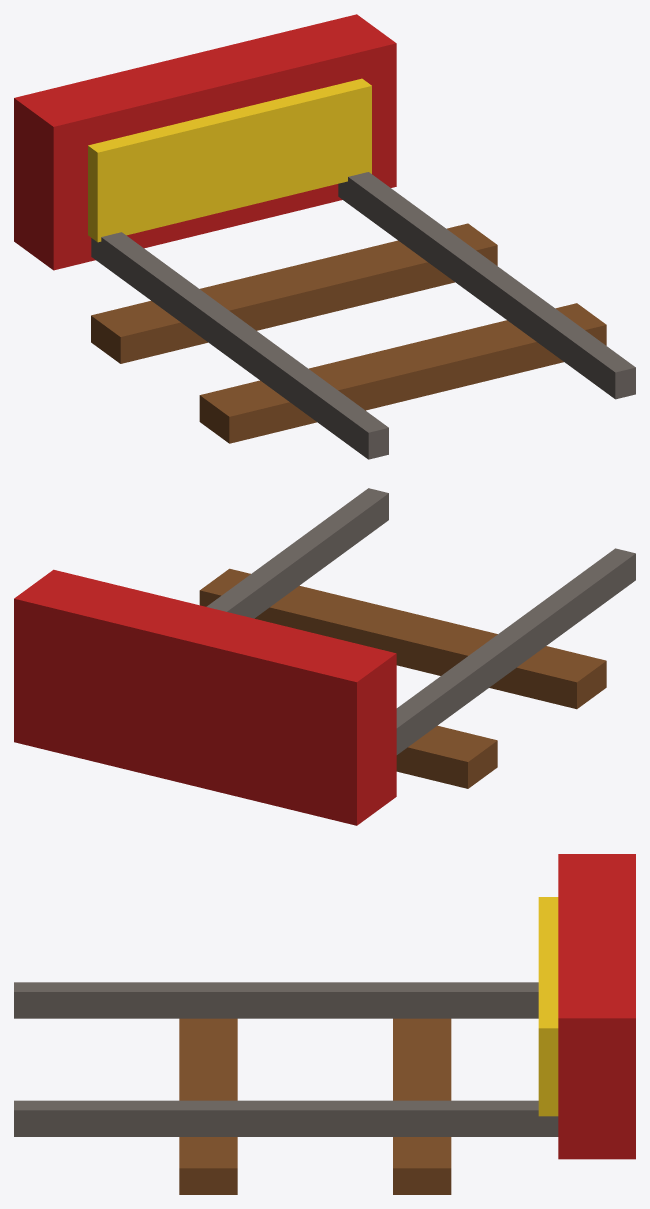
File: rail_buffer_stop.fbx
3 renders of one model, top to bottom at view 1: azimuth 30°, elevation 25°; view 2: azimuth 150°, elevation 25°; view 3: azimuth 270°, elevation 25°, orthographic.
Parts seen in each view (by area): view 1: rail_buffer_stop; view 2: rail_buffer_stop; view 3: rail_buffer_stop.
Boxes of the visible parts, x1,y1,x2,y2 form: rail_buffer_stop: (14,14,635,459); rail_buffer_stop: (14,488,635,825); rail_buffer_stop: (14,854,635,1194).
Size of the model in its own units: 2.2 by 0.955 by 3.2.
